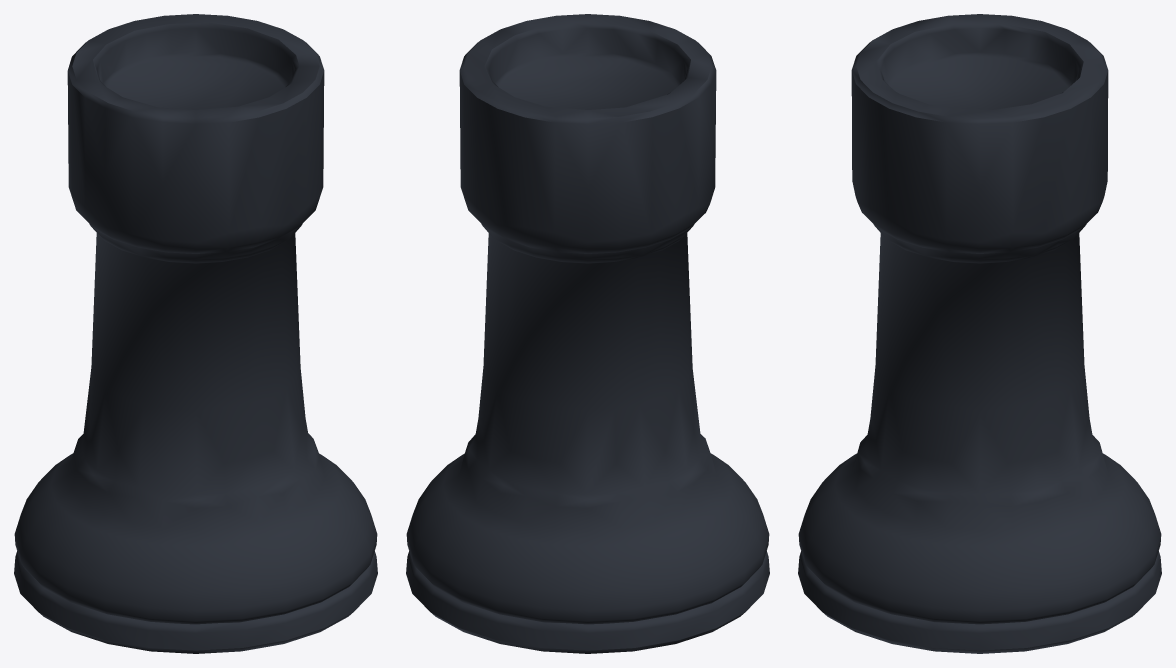
The model's file is xadrez_torre_preto_pacote.glb.
The picture shows the model from 3 angles, left to right: view 1: azimuth 30°, elevation 25°; view 2: azimuth 150°, elevation 25°; view 3: azimuth 270°, elevation 25°; orthographic projection.
Visible parts, largest first — view 1: xadrez_torre_preto_pacote; view 2: xadrez_torre_preto_pacote; view 3: xadrez_torre_preto_pacote.
Part boxes in pixels (bbox=[...]): xadrez_torre_preto_pacote: bbox=[14, 14, 377, 653]; xadrez_torre_preto_pacote: bbox=[406, 14, 769, 653]; xadrez_torre_preto_pacote: bbox=[798, 14, 1161, 653].
Bounding box in the file's own units: 0.0369 × 0.0581 × 0.0369.
1 material, 1 textured.
